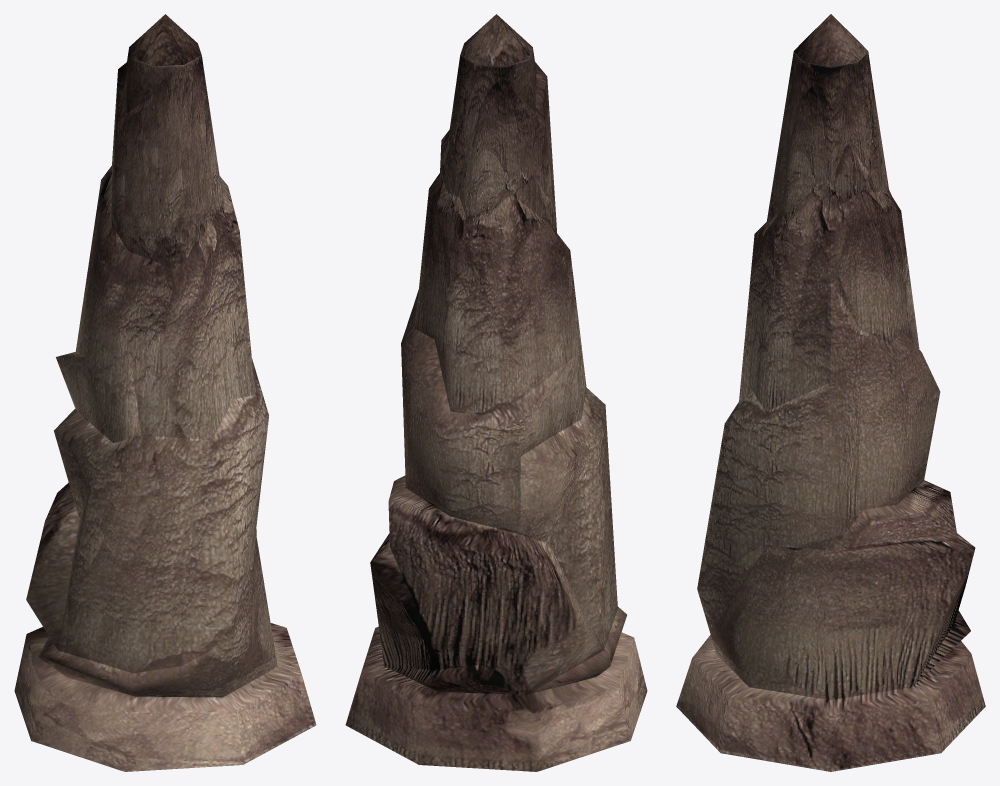
File: stalagmite_small1.fbx
The picture shows the model from 3 angles, left to right: view 1: azimuth 30°, elevation 25°; view 2: azimuth 150°, elevation 25°; view 3: azimuth 270°, elevation 25°; orthographic projection.
Visible parts, largest first — view 1: mesh_0; view 2: mesh_0; view 3: mesh_0.
Part boxes in pixels (bbox=[...]): mesh_0: bbox=[14, 14, 316, 771]; mesh_0: bbox=[345, 14, 647, 771]; mesh_0: bbox=[676, 14, 985, 771].
Bounding box in the file's own units: 64.45 × 159 × 64.45.
Materials: 1 (1 with a texture image).
